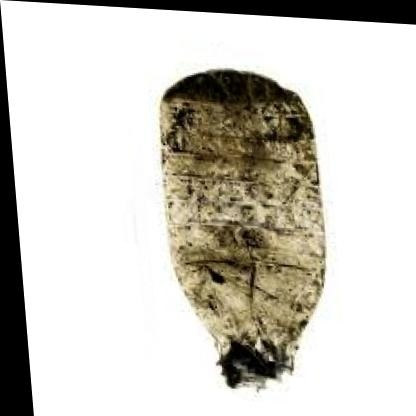trash: (161, 70, 324, 386)
